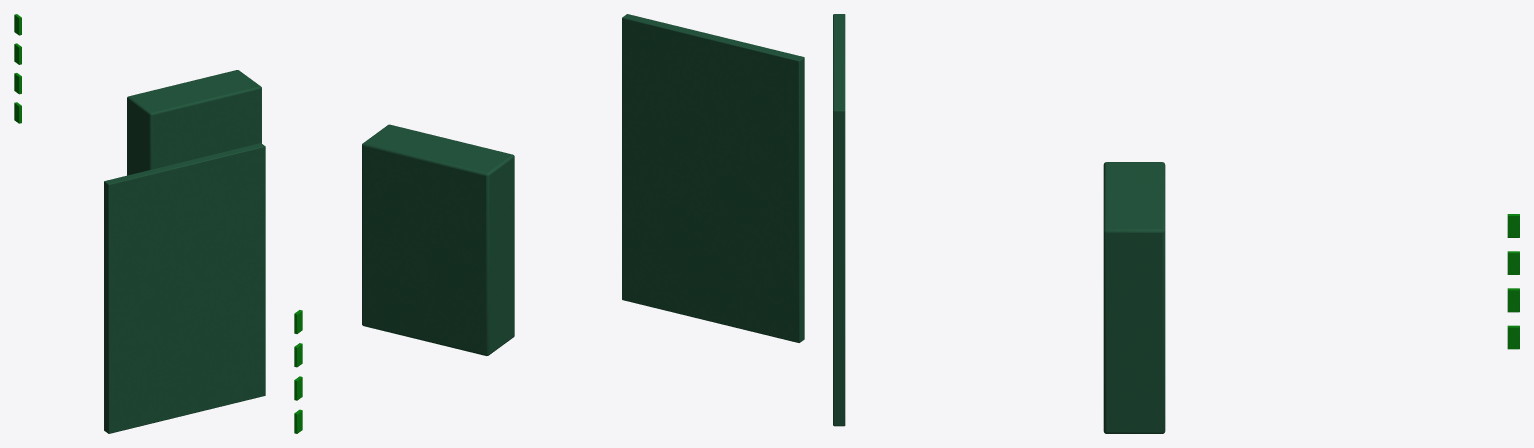
Rendered from base_link_pcb_green.obj.
3 views of the same model, side by side, from view 1: azimuth 30°, elevation 25°; view 2: azimuth 150°, elevation 25°; view 3: azimuth 270°, elevation 25° (orthographic). The views are drawn at different scales.
Parts seen in each view (by area): view 1: base_link__compute_board, base_link__converter; view 2: base_link__compute_board, base_link__converter; view 3: base_link__converter, base_link__compute_board.
Part boxes in pixels (left/top/right/bottom): base_link__compute_board: left=104, top=143, right=265, bottom=433; base_link__converter: left=127, top=70, right=261, bottom=175; base_link__compute_board: left=622, top=14, right=804, bottom=342; base_link__converter: left=362, top=124, right=514, bottom=355; base_link__converter: left=1103, top=162, right=1165, bottom=433; base_link__compute_board: left=833, top=14, right=845, bottom=426.
Bounding box in the file's own units: 0.093 × 0.085 × 0.1675.
Materials: 2 (1 with a texture image).
